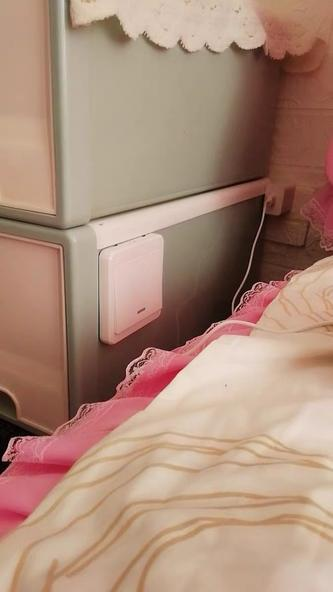switch: (116, 250, 168, 316)
